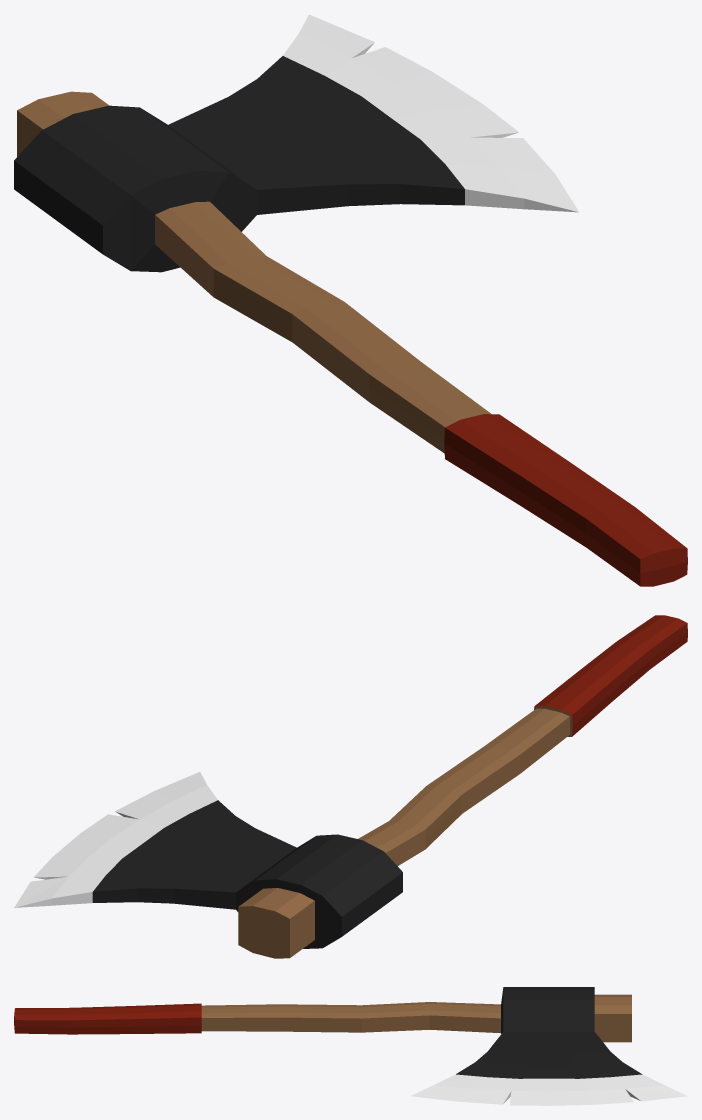
File: Axe.fbx
The picture shows the model from 3 angles, top to bottom: view 1: azimuth 30°, elevation 25°; view 2: azimuth 150°, elevation 25°; view 3: azimuth 270°, elevation 25°; orthographic projection. The views are drawn at different scales.
Parts seen in each view (by area): view 1: Axe; view 2: Axe; view 3: Axe.
Boxes of the visible parts, x1,y1,x2,y2 form: Axe: (14,14,687,586); Axe: (14,615,687,958); Axe: (14,987,687,1105).
Size of the model in its own units: 80.27 by 16.85 by 215.
